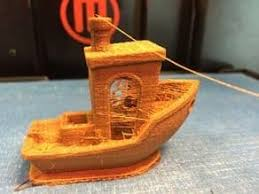fail: (104, 73, 145, 139), (60, 125, 114, 146), (152, 82, 184, 112)
